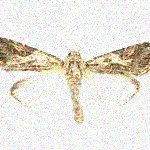Spodoptera litura: (0, 37, 149, 125)
